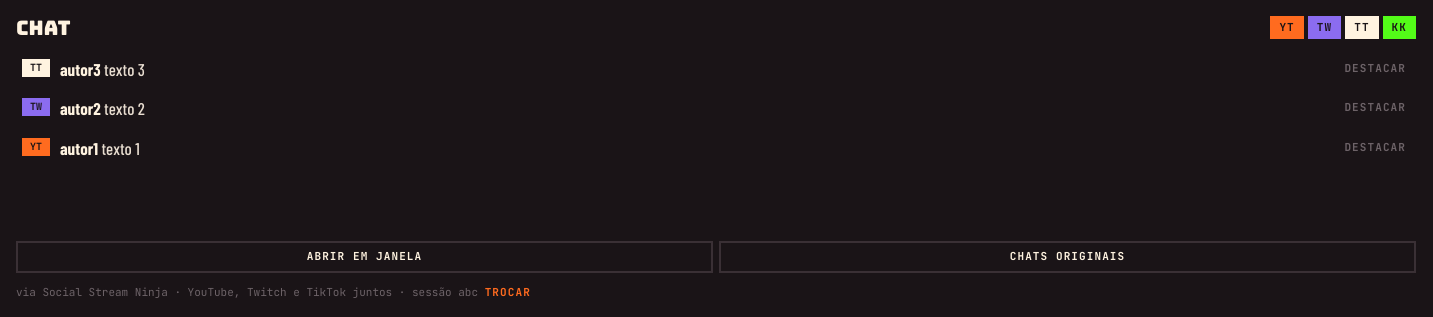
Test: CaixaChat › com sessão: TROCAR mostra o campo com o ID atual
Click the button "TROCAR" at [508, 292], box left=485, top=285, right=531, bottom=300
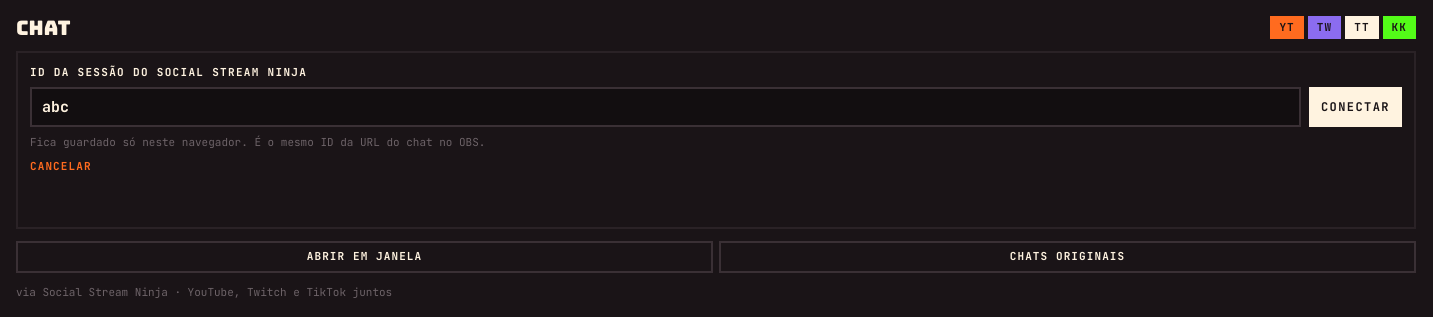
Expected: the field labelled "ID DA SESSÃO DO SOCIAL STREAM NINJA" holds "abc", left=30, top=87, right=1301, bottom=127
